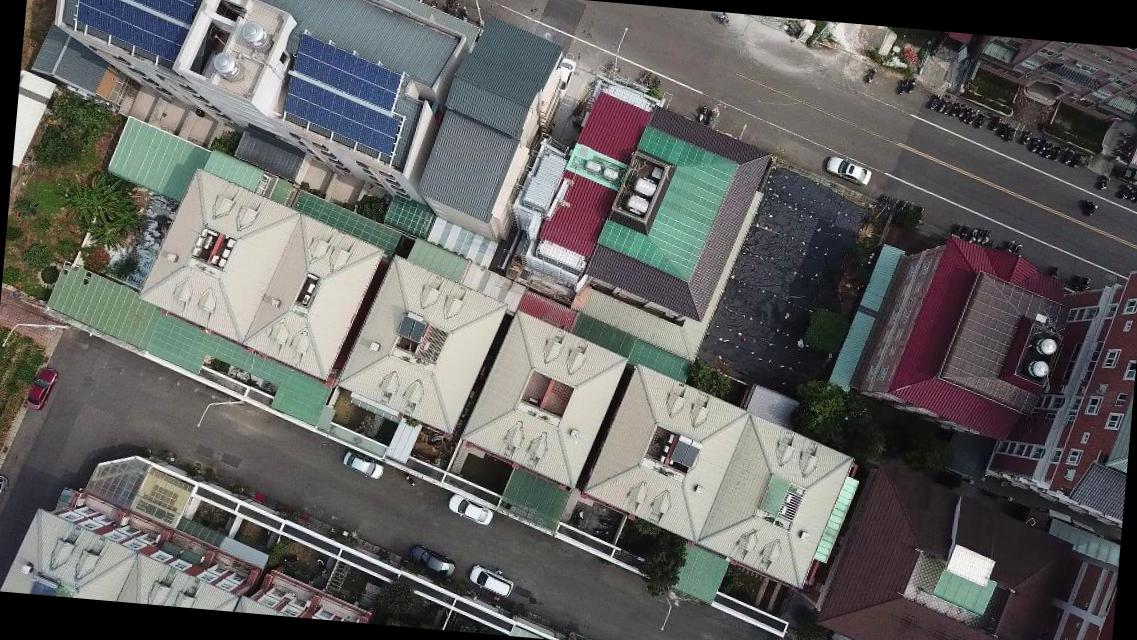vehicle: (444, 491, 496, 527), (466, 563, 514, 599), (821, 155, 874, 187), (409, 543, 456, 577), (24, 366, 58, 412), (548, 56, 577, 102), (342, 452, 386, 479), (0, 469, 9, 520)
